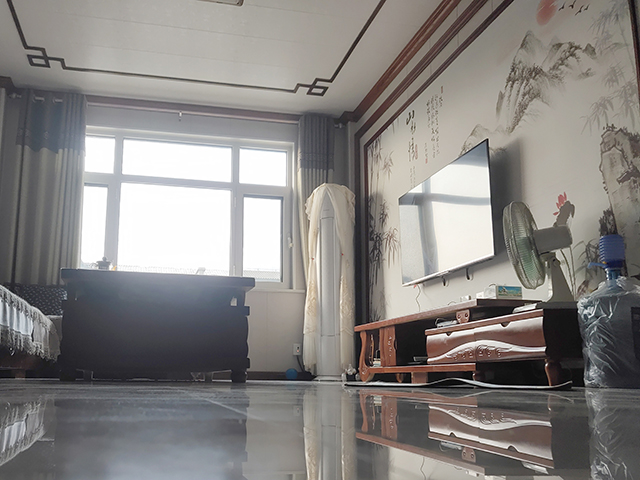cabinet: (353, 297, 585, 387)
carpet: (343, 376, 575, 392)
curtain: (1, 85, 85, 285), (292, 110, 326, 289)
sofa: (1, 282, 68, 380)
table: (57, 267, 257, 386)
wire: (295, 355, 310, 382)
